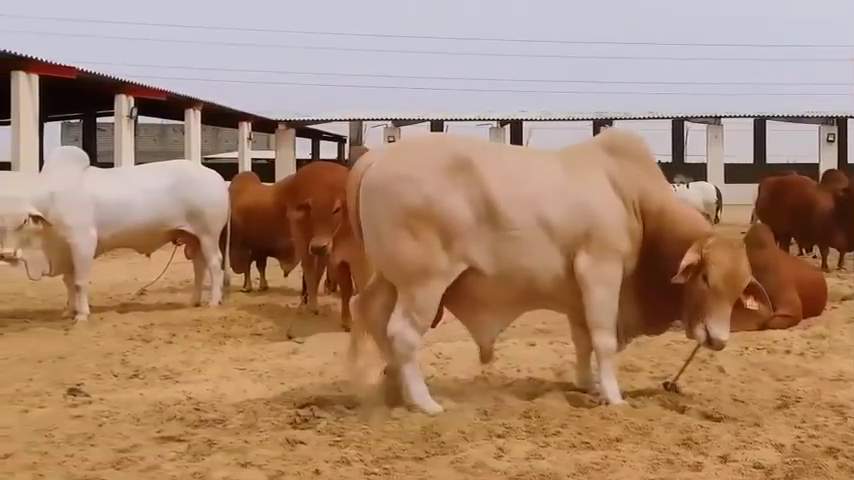bo: (346, 117, 774, 423), (2, 138, 236, 329), (277, 142, 352, 338), (717, 219, 835, 337), (755, 159, 850, 257), (222, 165, 285, 304), (652, 163, 728, 229)
